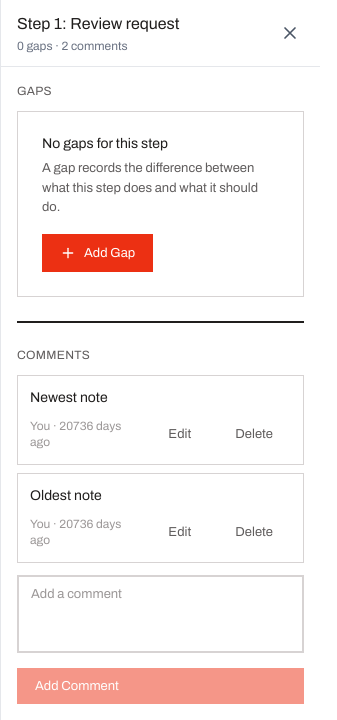
Test: CommentsSection in RightPanel › edits a comment in place without disturbing the others
Click the button with aria-label "Edit comment:".
click(180, 434)  # box [150,416,209,452]
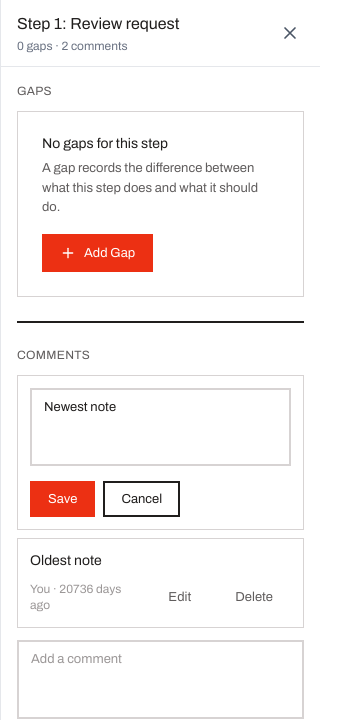
Now the text box named "Edit comment" holds "Newest note"
Replace the text in the text box named "Edit comment" with "Rewritten note" at (160, 427), box [30,388,291,466]
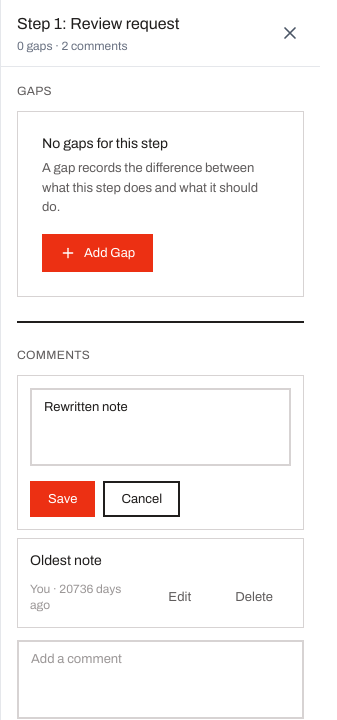
Click the button "Save".
click(63, 499)  # box [30,481,96,517]
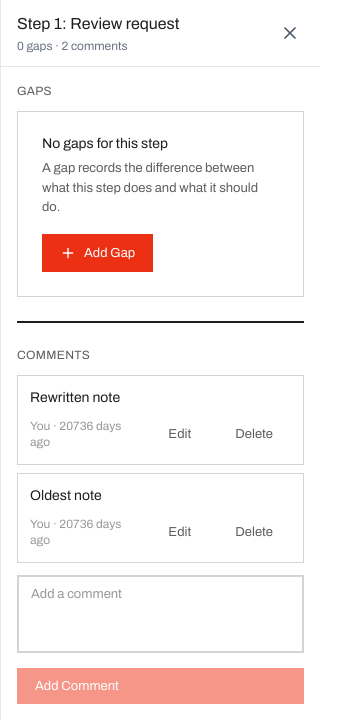
Expected: the field labelled "Edit comment" is not shown
Now the text "Rewritten note" is shown, box [30,390,120,404]
